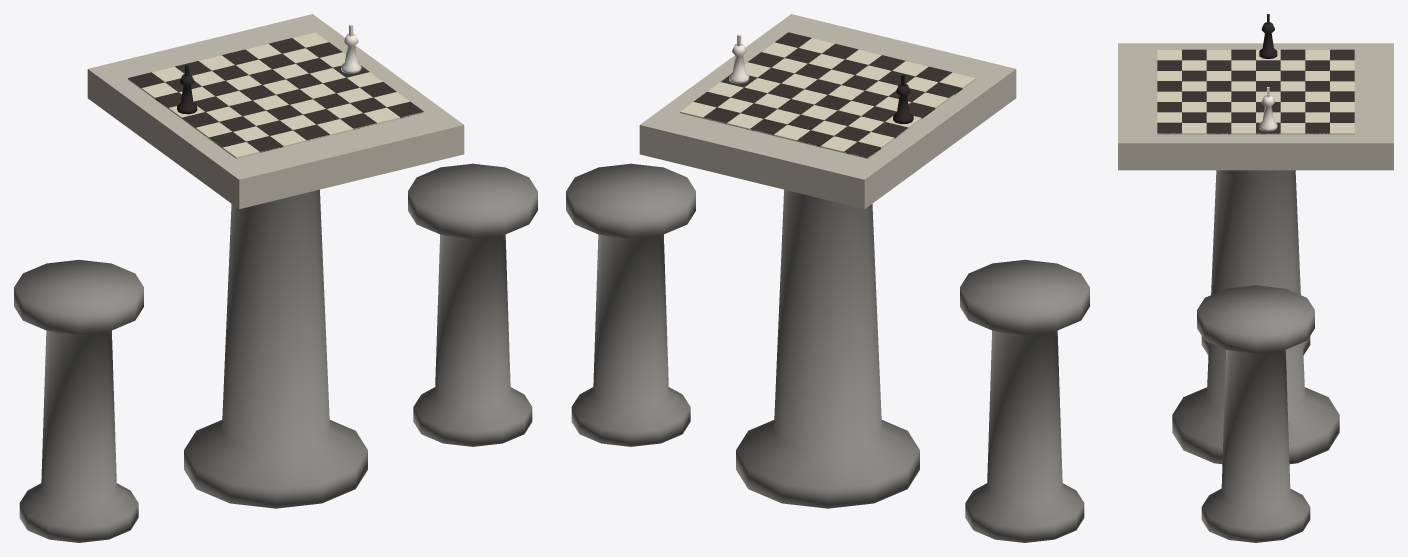
Rendered from parkChessTable.far.glb.
The picture shows the model from 3 angles, left to right: view 1: azimuth 30°, elevation 25°; view 2: azimuth 150°, elevation 25°; view 3: azimuth 270°, elevation 25°; orthographic projection. The views are drawn at different scales.
Parts seen in each view (by area): view 1: parkChessTable_far; view 2: parkChessTable_far; view 3: parkChessTable_far.
Boxes of the visible parts, x1,y1,x2,y2 form: parkChessTable_far: (14, 14, 537, 542); parkChessTable_far: (566, 14, 1089, 542); parkChessTable_far: (1118, 14, 1393, 542).
Bounding box in the file's own units: 1.08 × 0.855 × 0.56.
